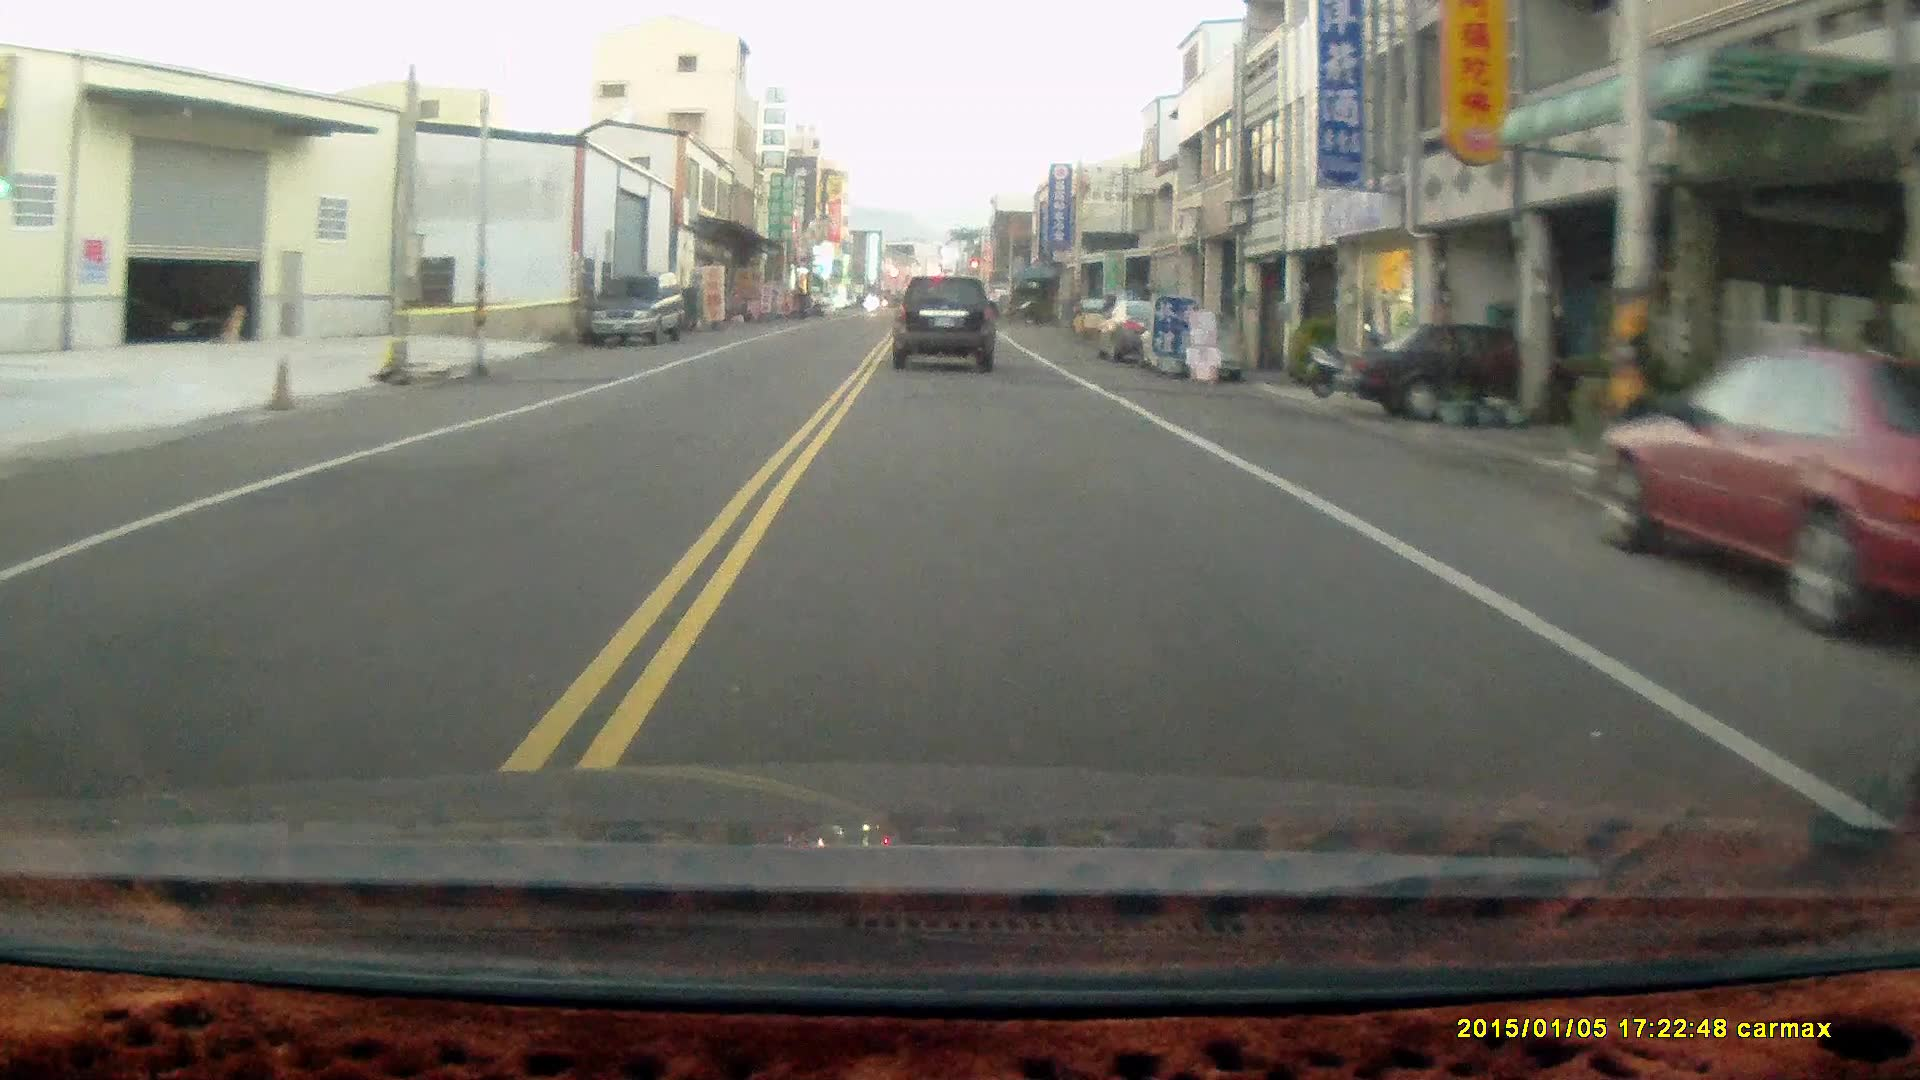vehicle: (1592, 343, 1920, 625), (1328, 322, 1630, 417), (890, 276, 997, 375), (589, 272, 690, 353)
